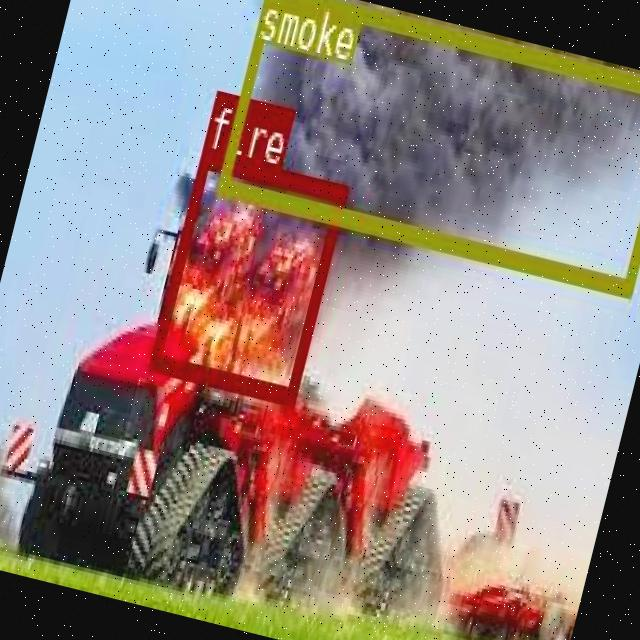fire: (148, 147, 346, 400)
smoke: (215, 0, 640, 292)
